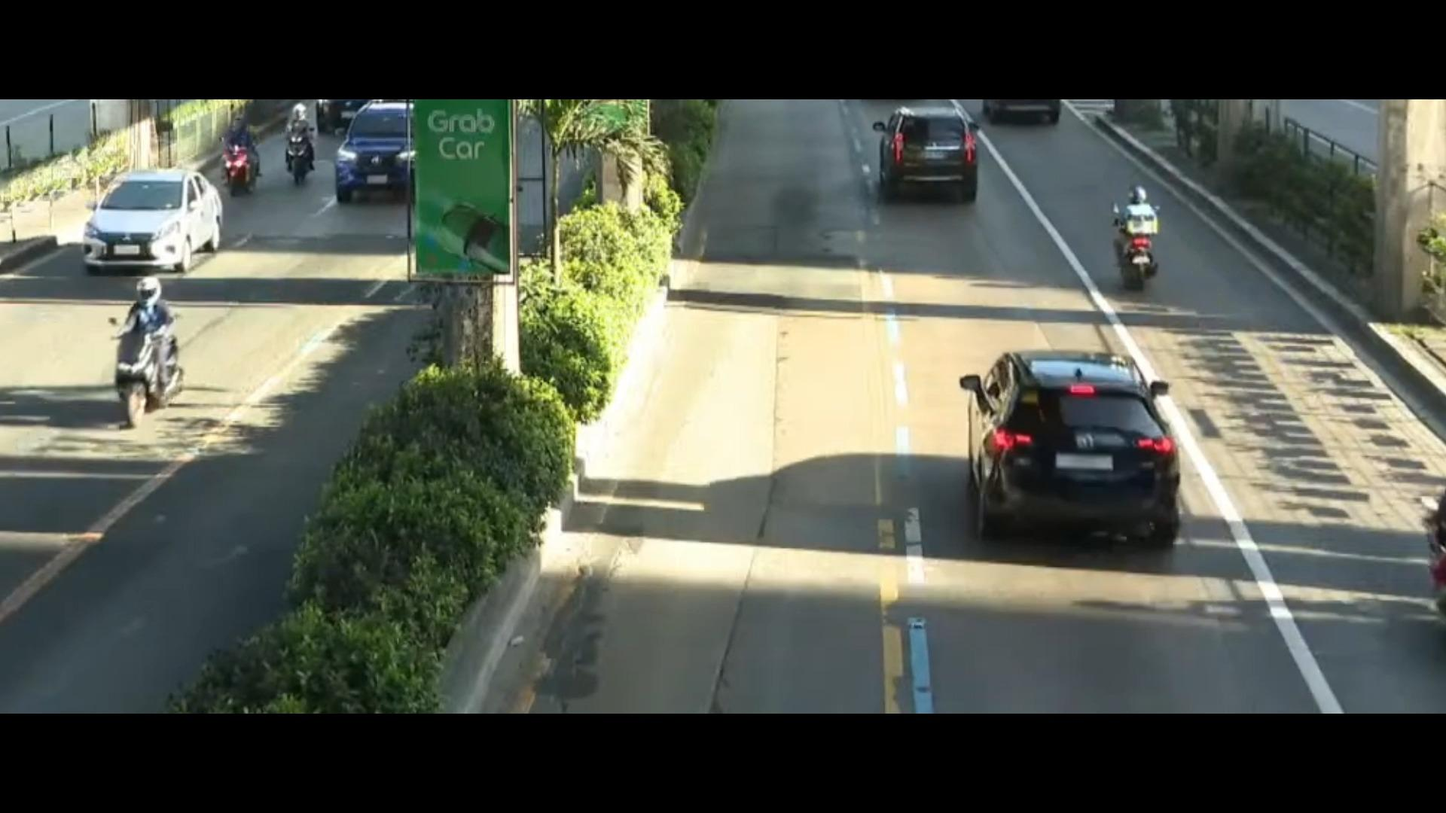Motorcycle: (96, 285, 200, 429), (1111, 172, 1165, 310), (268, 98, 329, 185), (215, 111, 270, 194)
SUV: (961, 330, 1197, 568), (850, 104, 993, 211), (315, 109, 429, 211)
Sedan: (75, 164, 228, 273)
